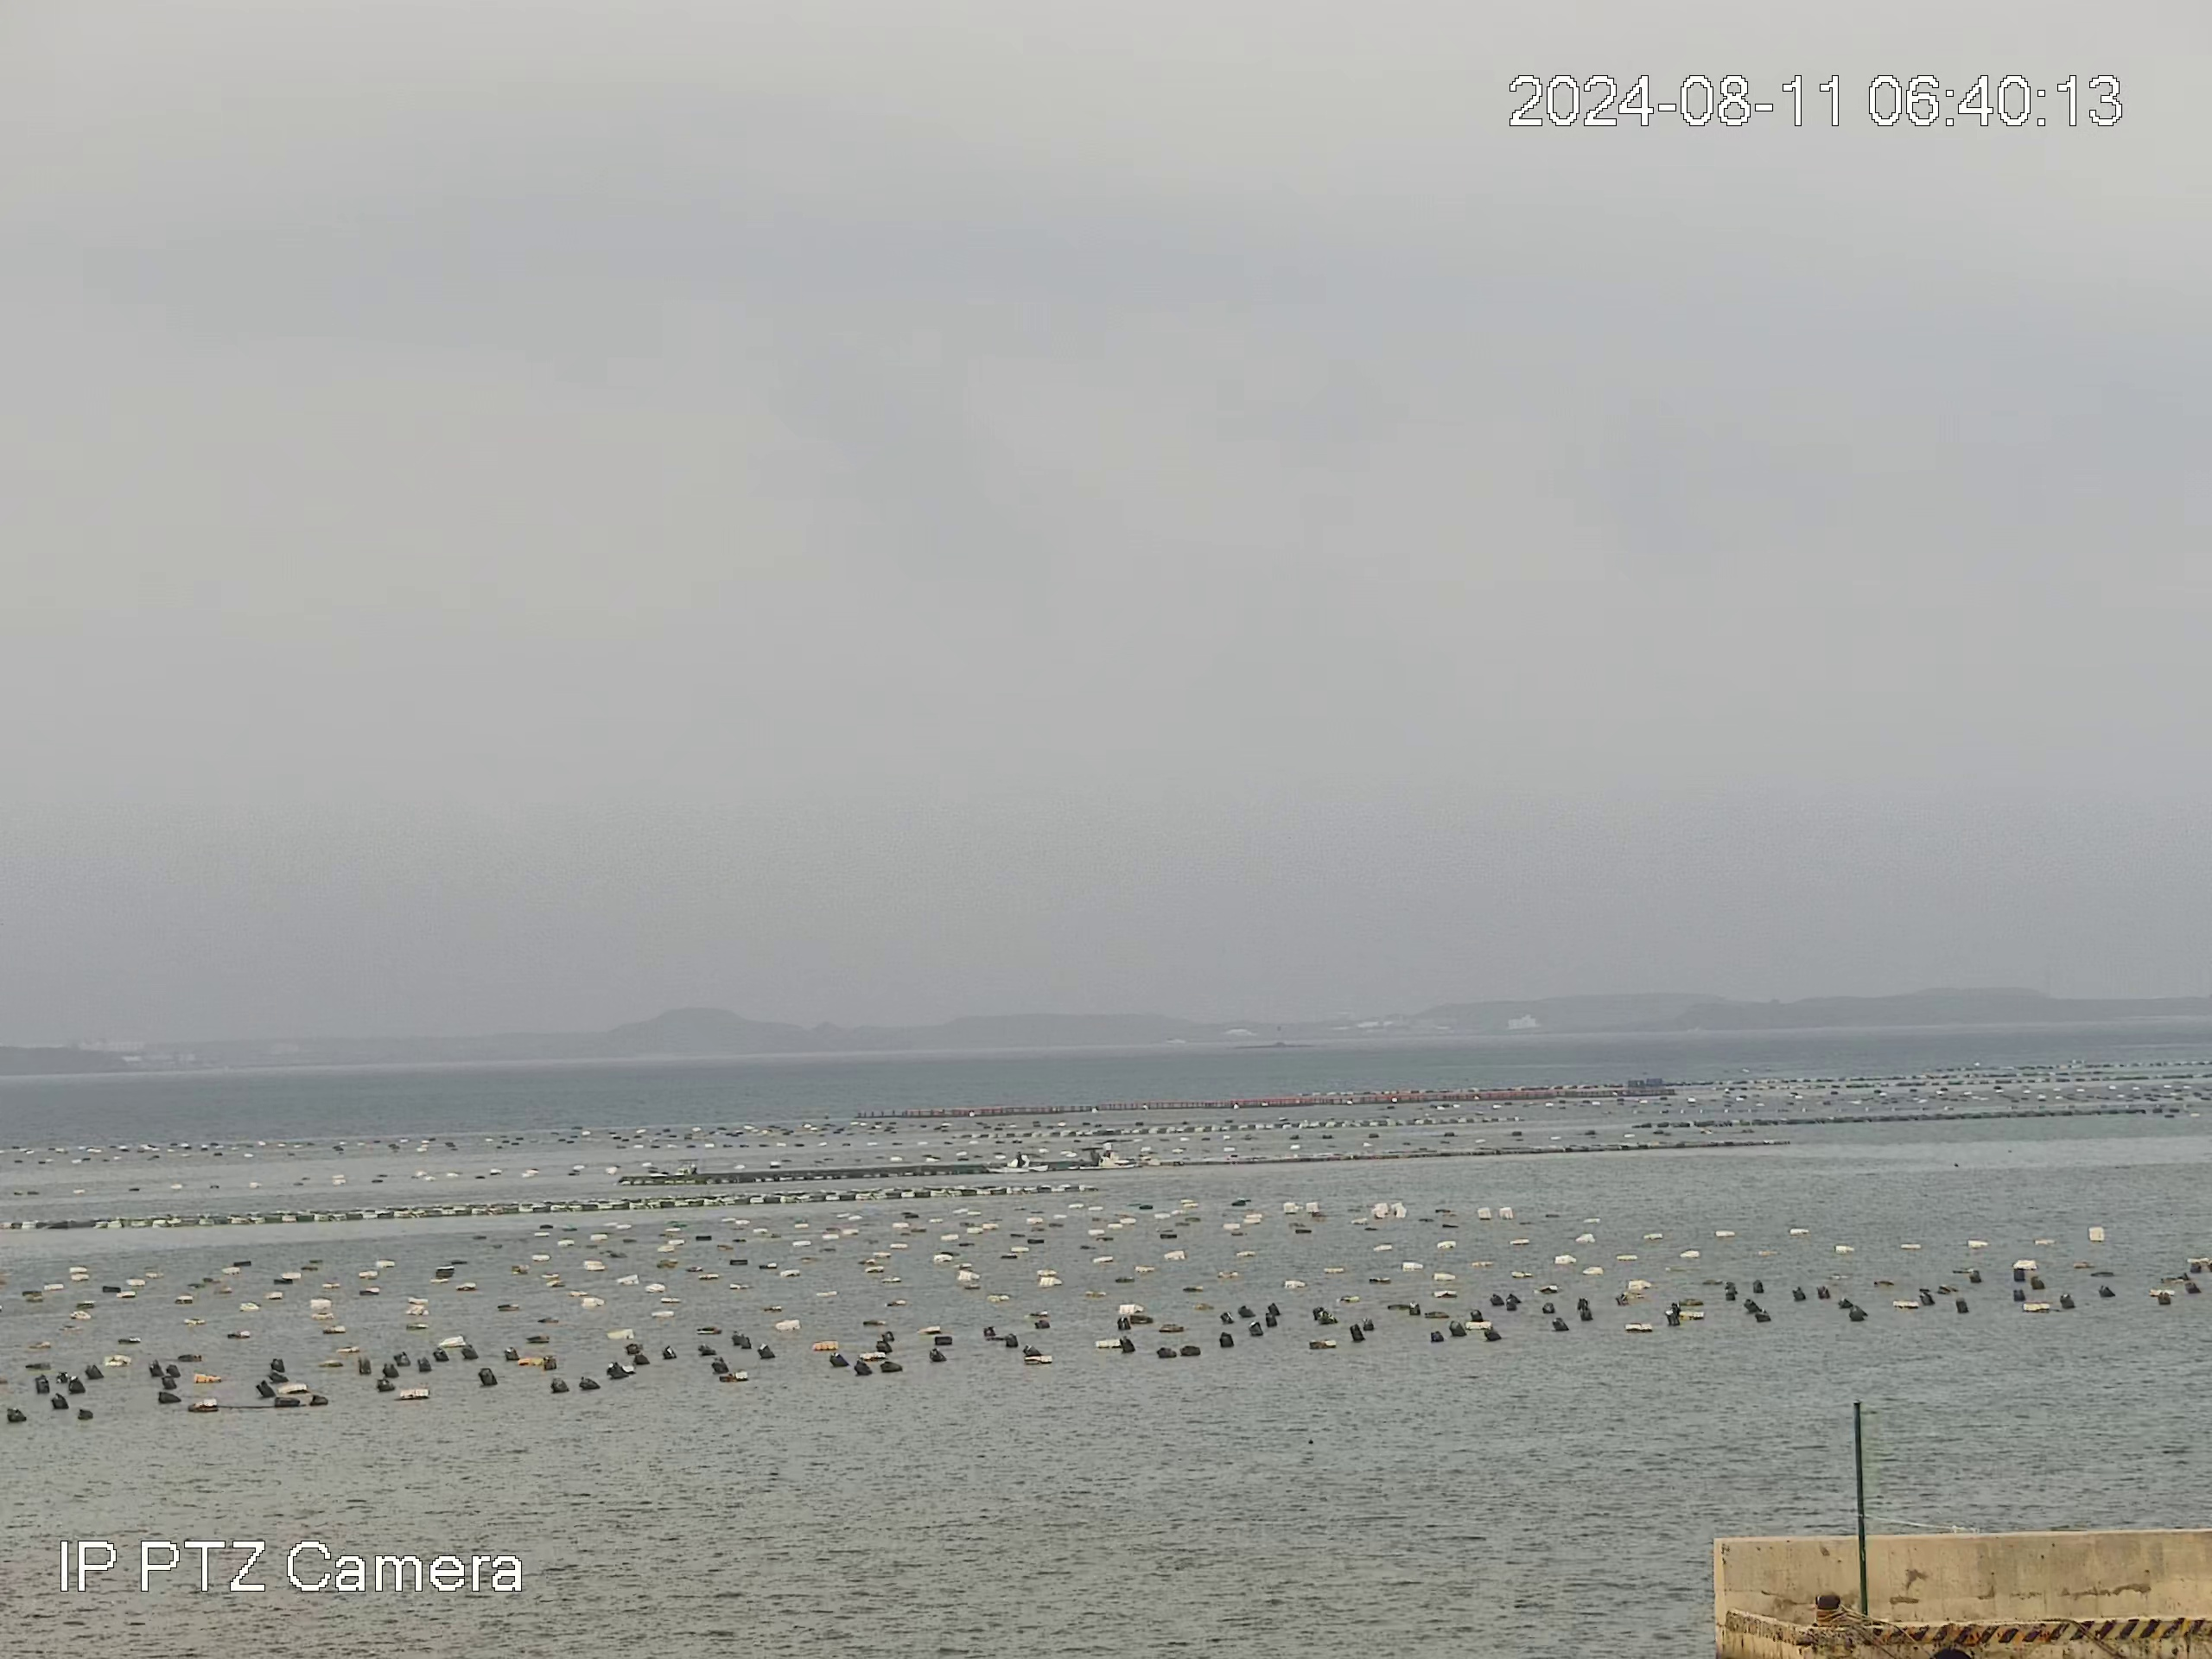boat: (1066, 1143, 1123, 1169), (982, 1154, 1050, 1175)
